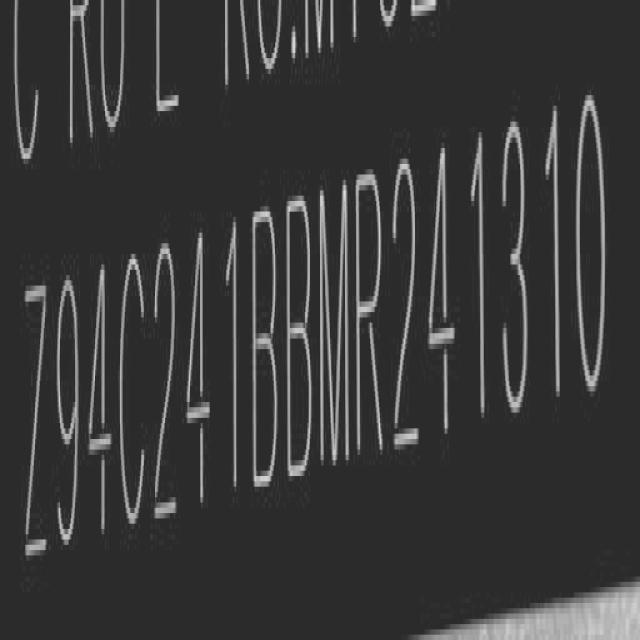0: (574, 90, 608, 406)
1: (543, 98, 567, 411), (466, 126, 486, 440), (223, 216, 244, 505)
2: (392, 153, 422, 463), (152, 241, 179, 528)
3: (500, 115, 530, 429)
4: (428, 136, 459, 446), (186, 225, 213, 519), (88, 257, 115, 544)
9: (52, 273, 80, 561)
B: (250, 198, 281, 496), (287, 189, 316, 489)
C: (118, 253, 148, 539)
M: (317, 176, 349, 479)
R: (352, 166, 387, 468)
Z: (22, 278, 49, 574)
